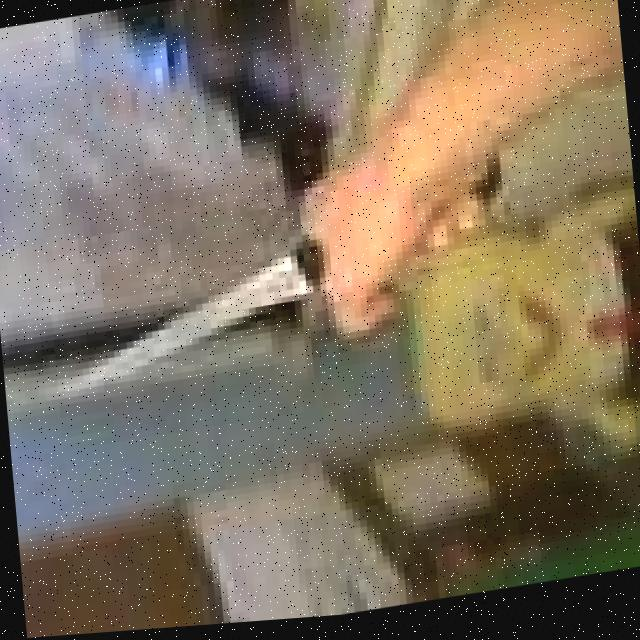knife: (78, 257, 316, 387)
